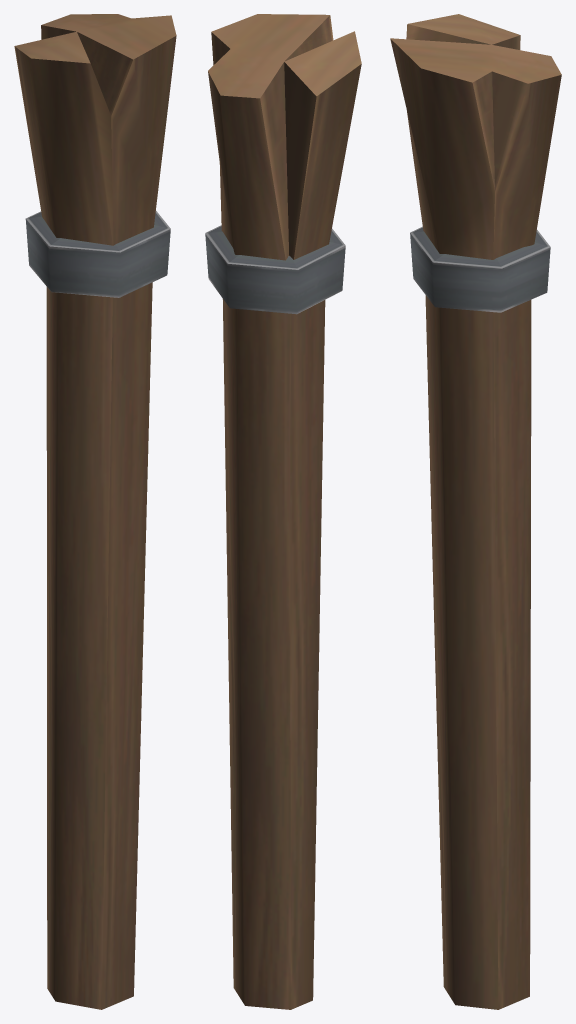
Rendered from A_HA_GEN_Bollard_01.fbx.
The picture shows the model from 3 angles, left to right: view 1: azimuth 30°, elevation 25°; view 2: azimuth 150°, elevation 25°; view 3: azimuth 270°, elevation 25°; orthographic projection. The views are drawn at different scales.
Visible parts, largest first — view 1: A_HA_Gen_Bollard_01; view 2: A_HA_Gen_Bollard_01; view 3: A_HA_Gen_Bollard_01.
Boxes of the visible parts, box(x1,y1,x2,y2) form: A_HA_Gen_Bollard_01: box(14, 14, 176, 1009); A_HA_Gen_Bollard_01: box(205, 14, 361, 1009); A_HA_Gen_Bollard_01: box(390, 14, 561, 1009).
Bounding box in the file's own units: 93.28 × 586 × 95.89.
1 material, 1 textured.
